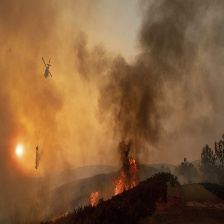fire: (85, 158, 140, 209)
smoke: (80, 4, 224, 161)
